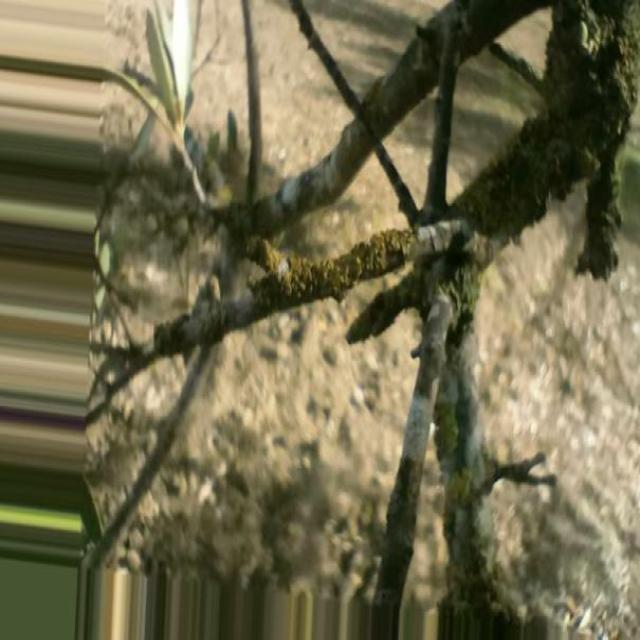Tuberculosis: (471, 0, 639, 278), (244, 230, 416, 303)
